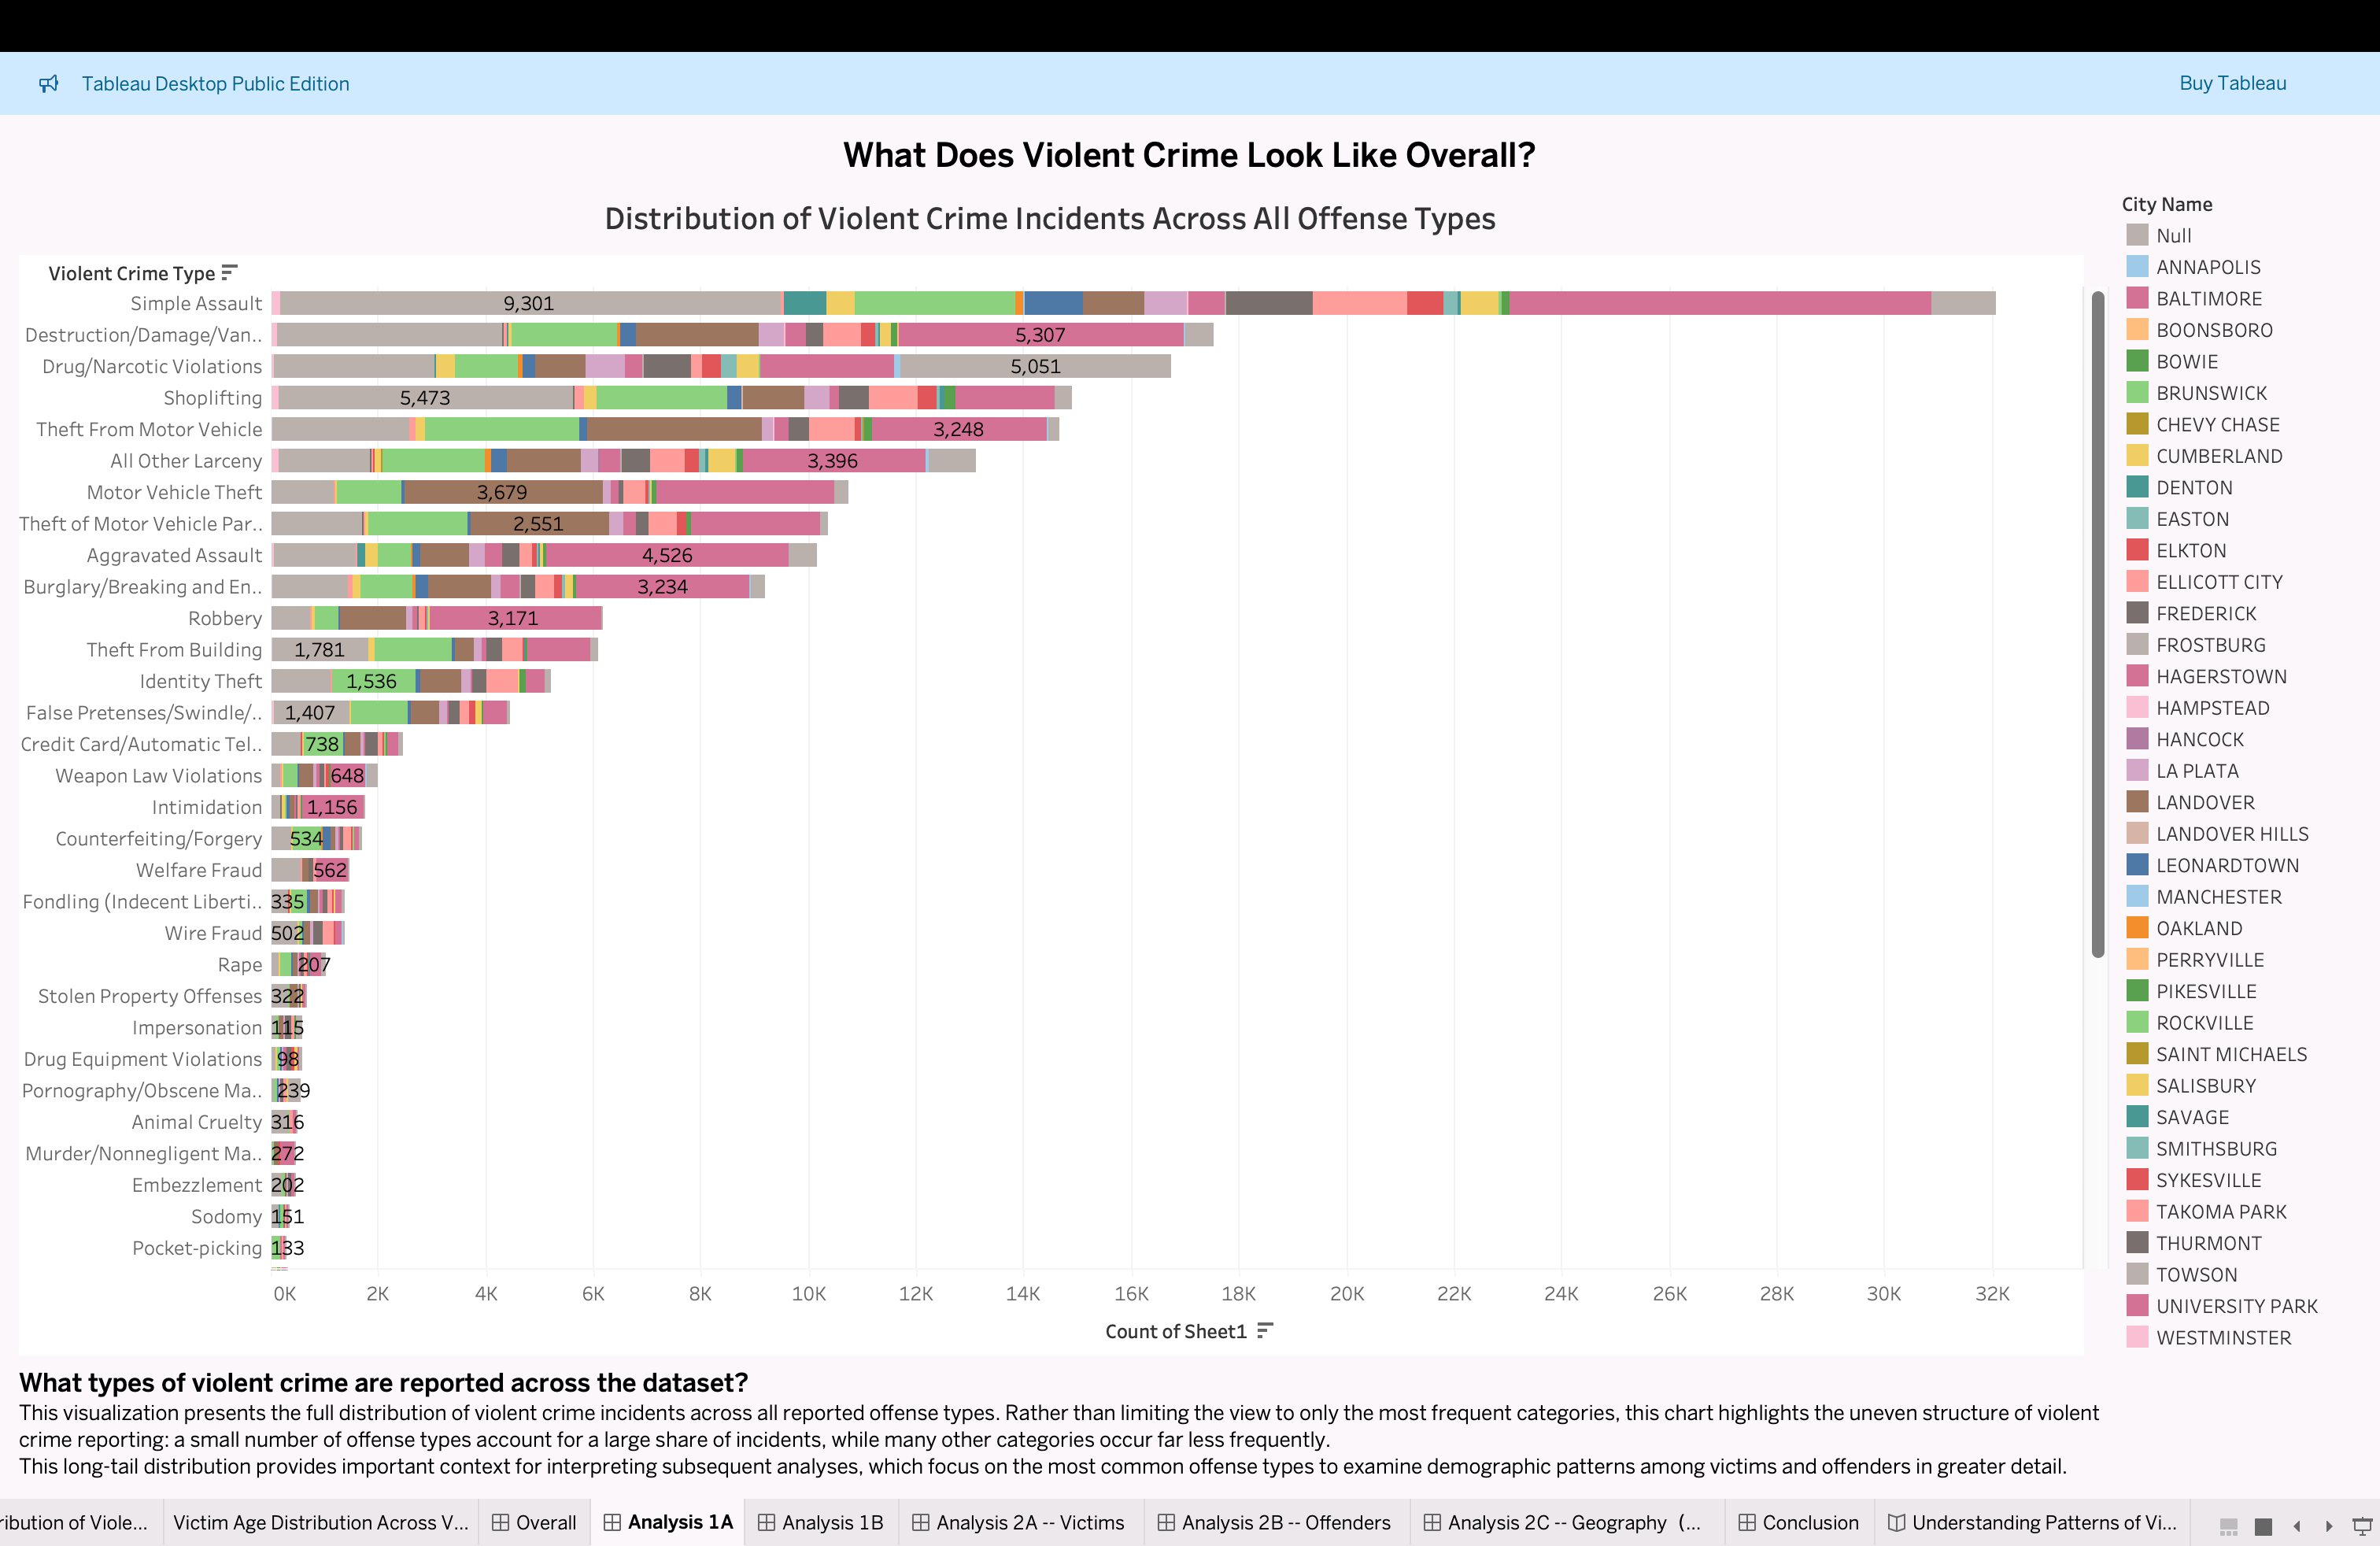

The page's visual inventory and layout, read from the dashboard file:
{"tool":"tableau","page":{"name":"Analysis 1A","canvas":[1000,1000],"units":"permille","ordinal":0},"visuals":[{"type":"text","box":[6.2,9.8,987.7,40.6]},{"type":"worksheet","title":"Distribution of Violent Crime Incidents Across All Offense Types","mark":"Automatic","rows":["ViolentCrimeType"],"cols":["Sheet1_C70B4A50ED87482583BFEB3E06CA7164"],"box":[6.2,50.4,864.7,939.7]},{"type":"legend","title":"Distribution of Violent Crime Incidents Across All Offense Types","param":"[federated.1p1e0dx1s247zc1csf53d0xrrefi].[none:CityName:nk]","box":[870.9,50.4,123,917.6]}]}

Visuals, with their boxes on the dashboard's canvas, which has no fixed pixel size, in thousandths of its width and height (x1, y1, x2, y2). These are canvas units, not pixel positions in the 2380x1546 screenshot, which may show the page scaled, cropped or inside an application window:
text: {"x1": 6, "y1": 10, "x2": 994, "y2": 50}
"Distribution of Violent Crime Incidents Across All Offense Types" worksheet: {"x1": 6, "y1": 50, "x2": 871, "y2": 990}
"Distribution of Violent Crime Incidents Across All Offense Types" legend: {"x1": 871, "y1": 50, "x2": 994, "y2": 968}
